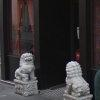Statue: (10, 41, 85, 100)
